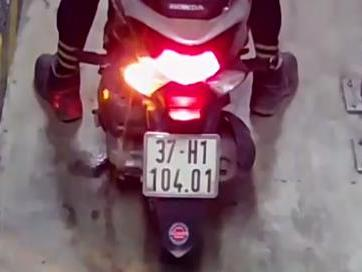num_plate: (141, 133, 219, 198)
